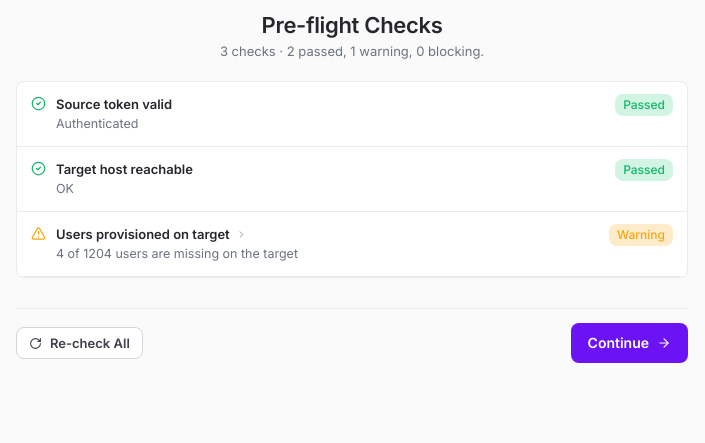
Test: PreflightPage › collapses a check that was expanded
Click the button "Users provisioned on target": [143, 234] box [17,212,687,277]
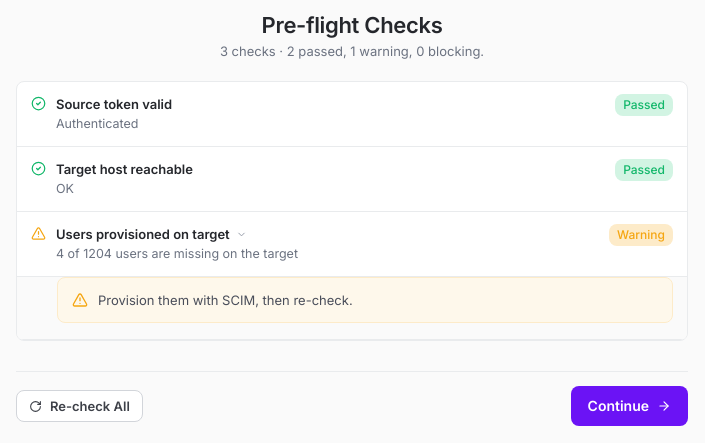
Check: the text "Provision them with SCIM, then re-check." is shown, box [98,290,353,310]
Click the button "Users provisioned on target": [143, 234] box [17,212,687,277]
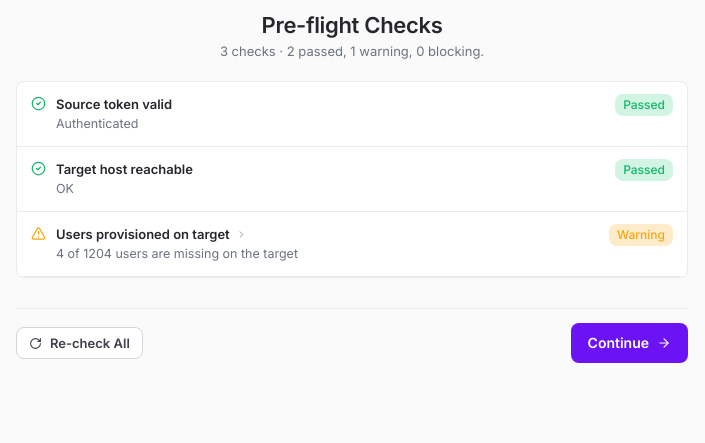
Check: the text "Provision them with SCIM" is gone
